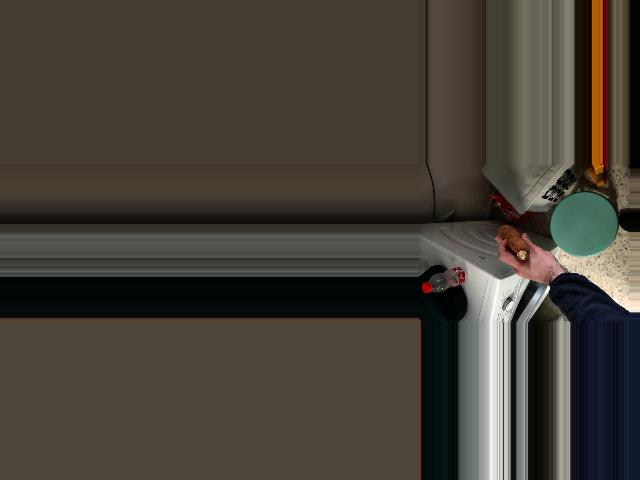sweet_potato: (494, 226, 534, 264)
